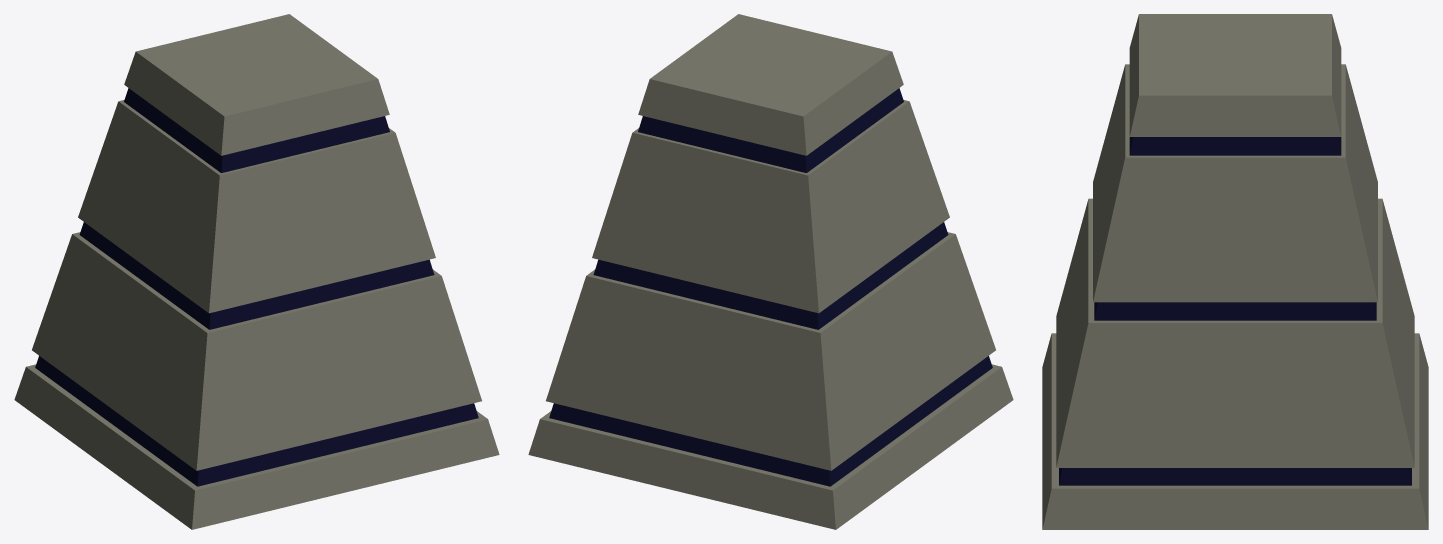
Rendered from PlatformUV.fbx.
3 renders of one model, left to right at view 1: azimuth 30°, elevation 25°; view 2: azimuth 150°, elevation 25°; view 3: azimuth 270°, elevation 25°, orthographic. The views are drawn at different scales.
Parts seen in each view (by area): view 1: Cube.001; view 2: Cube.001; view 3: Cube.001.
Boxes of the visible parts, bbox=[...] form: Cube.001: bbox=[14, 14, 499, 529]; Cube.001: bbox=[528, 14, 1013, 529]; Cube.001: bbox=[1042, 14, 1428, 529].
Bounding box in the file's own units: 400 × 450 × 400.
